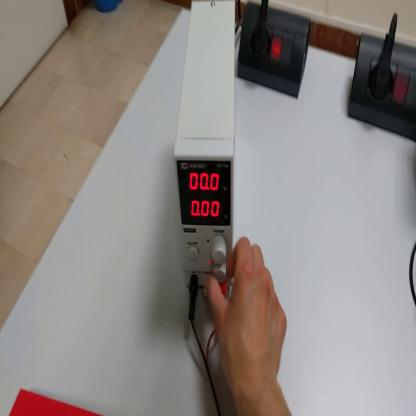hand: (207, 236, 288, 396)
power supply: (176, 4, 238, 299)
register: (10, 389, 100, 415)
socket: (349, 28, 416, 142), (236, 5, 312, 99)
